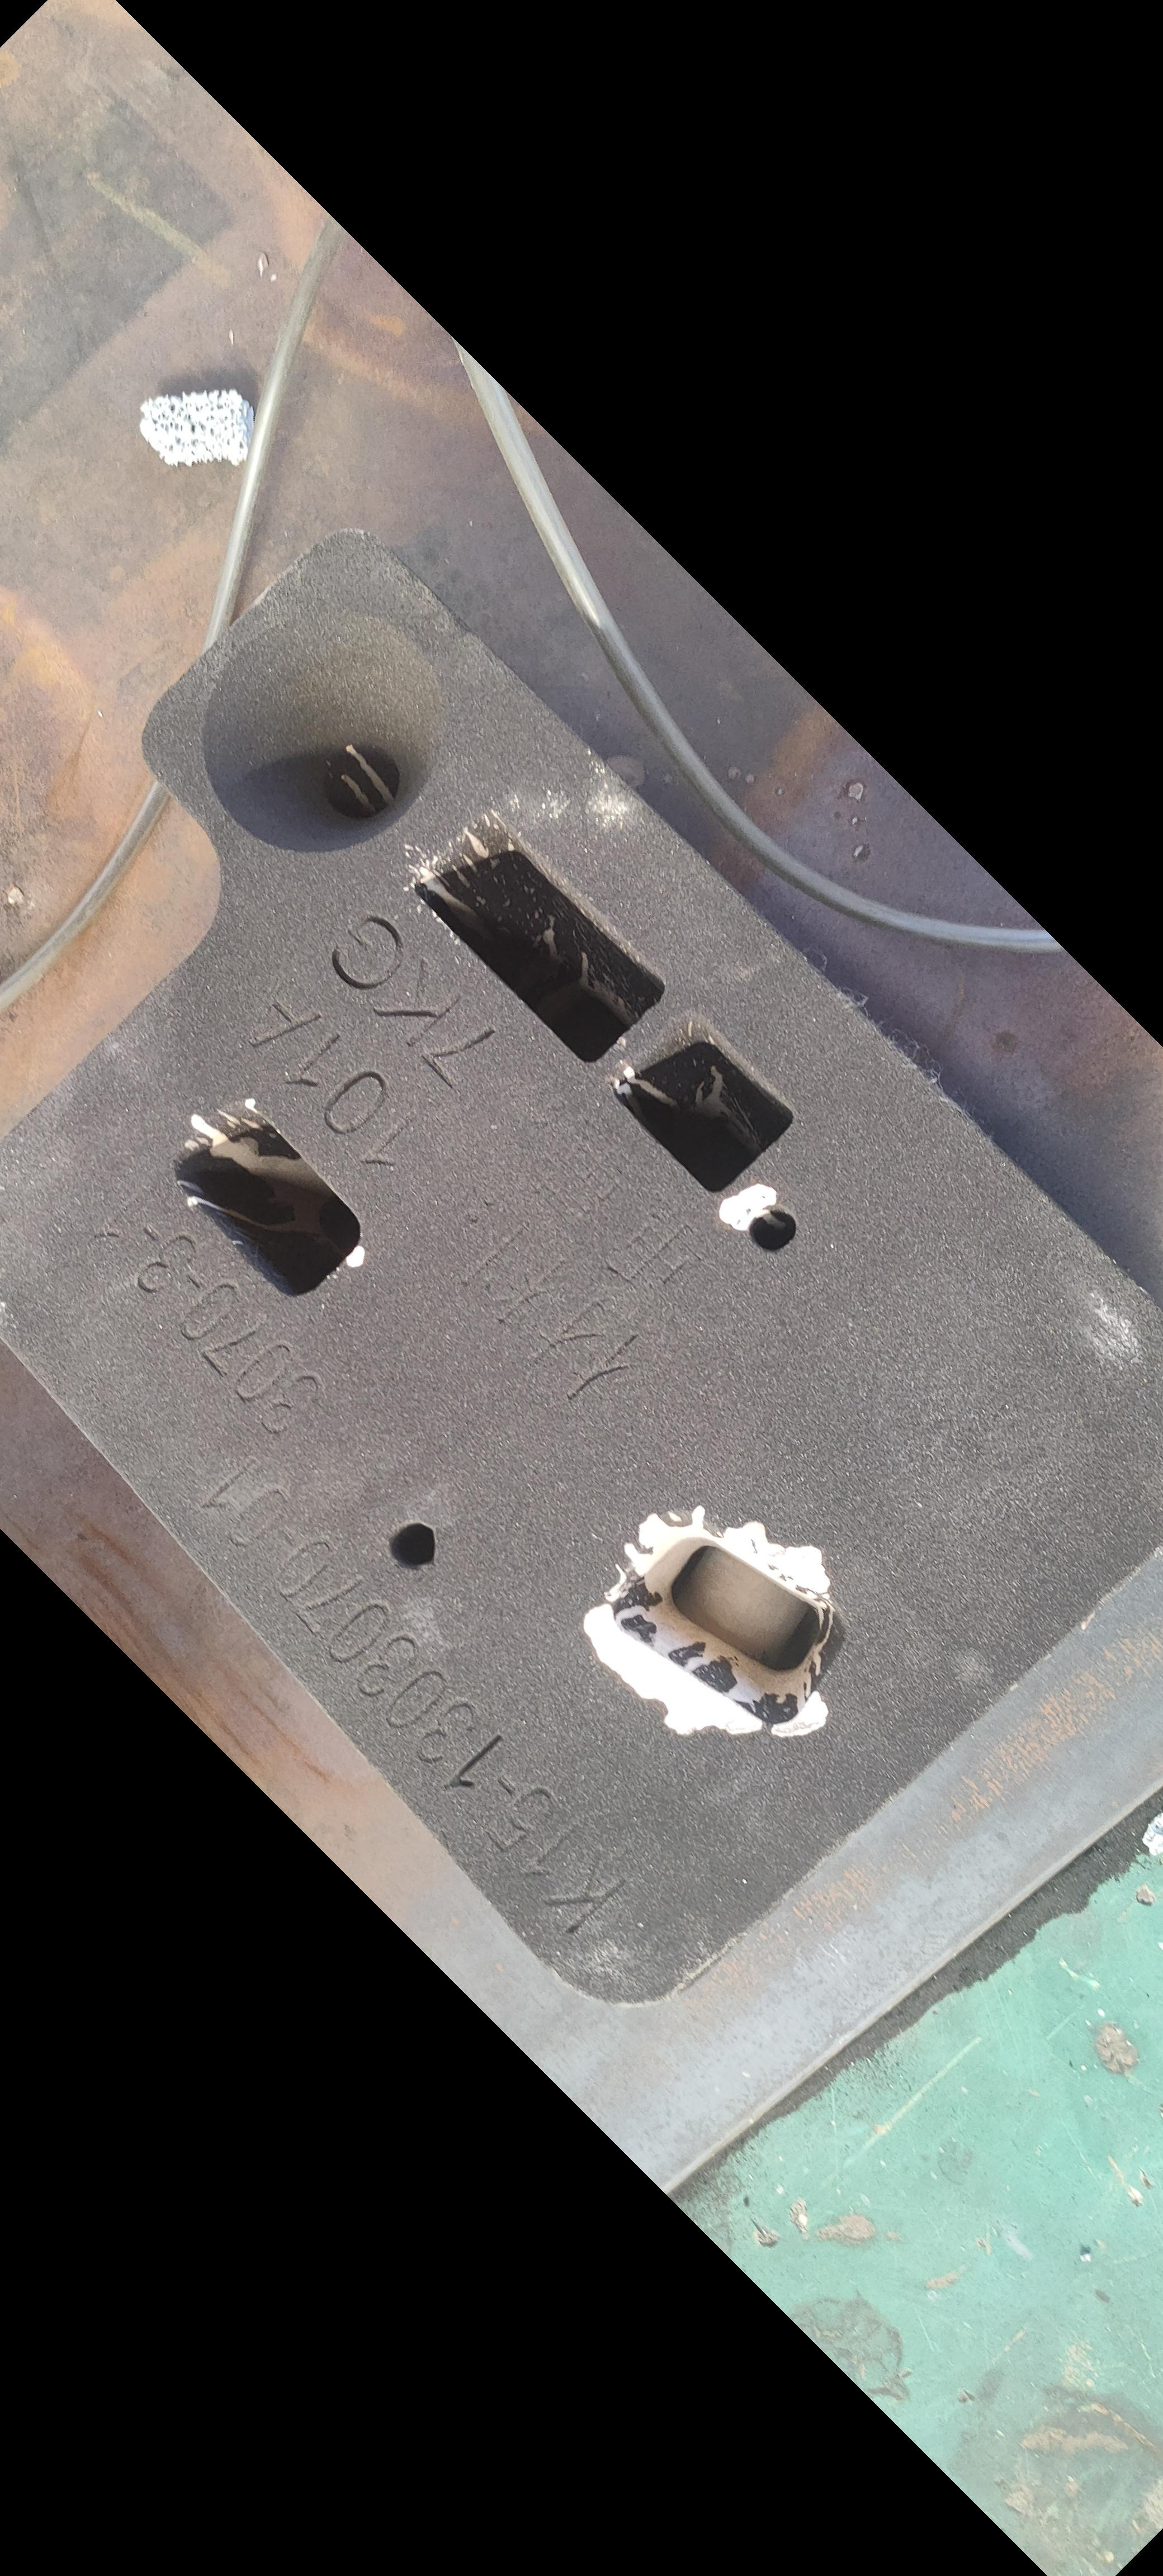pouring hole: (199, 610, 447, 856)
